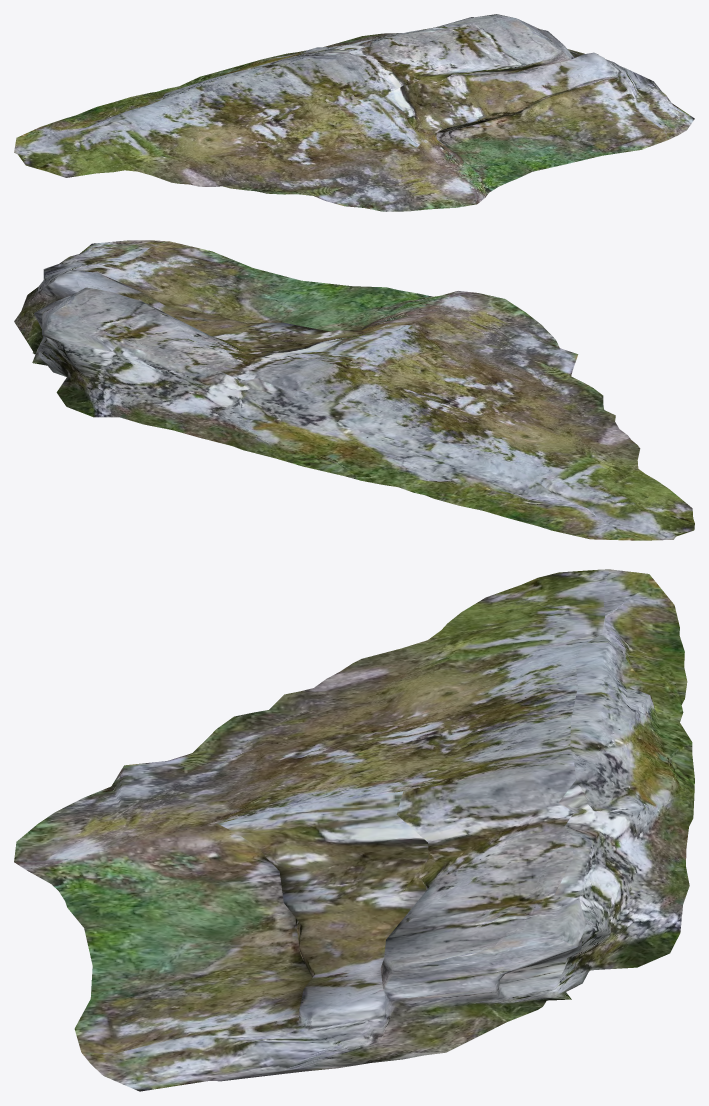
Rendered from Mossy_Slab_4.glb.
3 renders of one model, top to bottom at view 1: azimuth 30°, elevation 25°; view 2: azimuth 150°, elevation 25°; view 3: azimuth 270°, elevation 25°, orthographic. The views are drawn at different scales.
Visible parts, largest first — view 1: Mossy_Slab_4; view 2: Mossy_Slab_4; view 3: Mossy_Slab_4.
Boxes of the visible parts, left/top/right/bottom form: Mossy_Slab_4: left=14, top=14, right=694, bottom=211; Mossy_Slab_4: left=14, top=240, right=694, bottom=540; Mossy_Slab_4: left=14, top=569, right=694, bottom=1091.
Bounding box in the file's own units: 2.03 × 0.16 × 1.15.
1 material, 1 textured.
